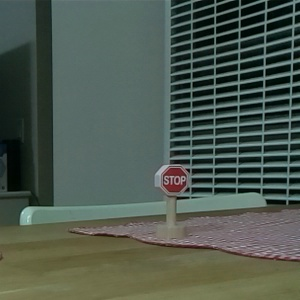stop sign: (152, 162, 191, 238)
